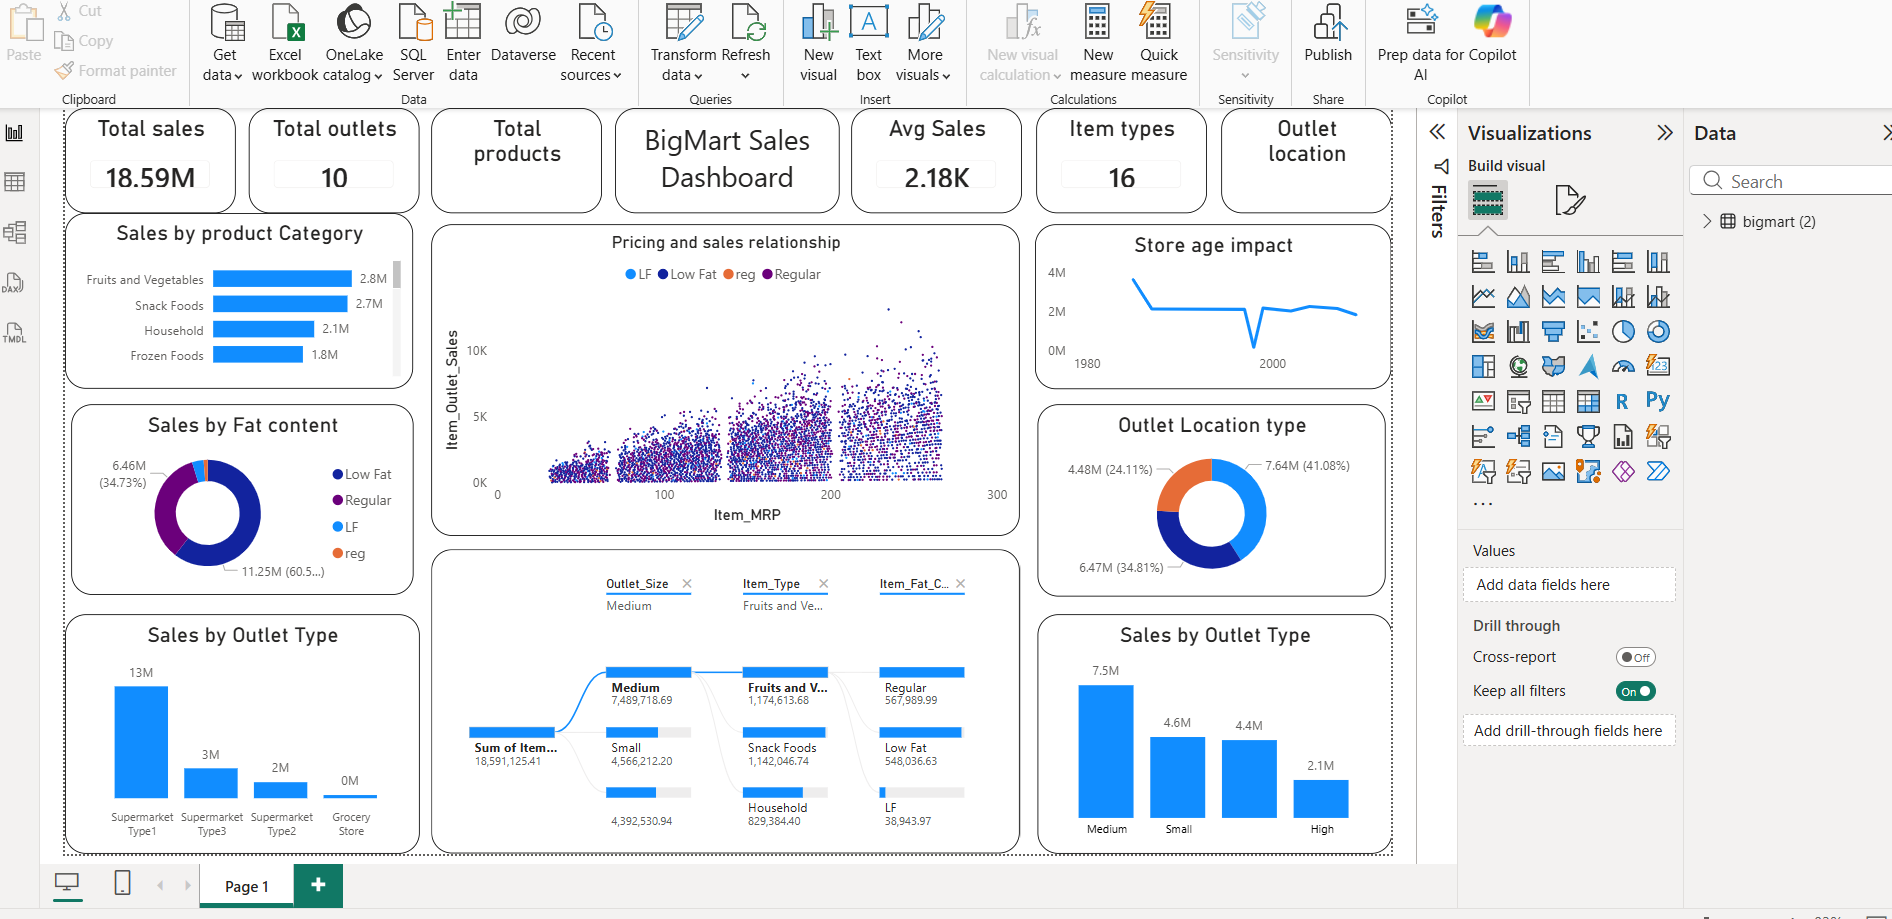

Layout of this report page (visuals, bound fields, positions):
{"tool":"powerbi","page":{"name":"Page 1","canvas":[1280,720],"ordinal":0},"visuals":[{"type":"textbox","box":[531,0,216.8,101.5],"z":0},{"type":"cardVisual","title":"Total sales","fields":{"Data":["Sum(bigmart (2).Item_Outlet_Sales)"]},"box":[0,0,164.7,101.5],"z":1000},{"type":"cardVisual","title":"Total outlets","fields":{"Data":["Count(bigmart (2).Outlet_Identifier)"]},"box":[177,0,164.7,101.5],"z":2000},{"type":"cardVisual","title":"Total products","fields":{"Data":["Count(bigmart (2).Item_Identifier)"]},"box":[354,0,164.7,101.5],"z":3000},{"type":"cardVisual","title":"Avg  Sales ","fields":{"Data":["Avg(bigmart (2).Item_Outlet_Sales)"]},"box":[758.8,0,164.7,101.5],"z":4000},{"type":"cardVisual","title":"Item types","fields":{"Data":["Count(bigmart (2).Item_Type)"]},"box":[937.2,0,164.7,101.5],"z":5000},{"type":"cardVisual","title":"Outlet location","fields":{"Data":["Count(bigmart (2).Outlet_Location_Type)"]},"box":[1115.6,0,164.7,101.5],"z":6000},{"type":"clusteredBarChart","title":"Sales by product Category","fields":{"Category":["bigmart (2).Item_Type"],"Y":["Sum(bigmart (2).Item_Outlet_Sales)"]},"box":[0,101.8,336.3,169.6],"z":7000},{"type":"donutChart","title":"Sales by Fat content","fields":{"Category":["bigmart (2).Item_Fat_Content"],"Y":["Sum(bigmart (2).Item_Outlet_Sales)"]},"box":[5.9,286.1,330.4,184.4],"z":8000},{"type":"clusteredColumnChart","title":"Sales by Outlet Type","fields":{"Y":["Sum(bigmart (2).Item_Outlet_Sales)"],"Category":["bigmart (2).Outlet_Type"]},"box":[0,488.2,342.2,231.6],"z":9000},{"type":"lineChart","title":"Store age impact","fields":{"Y":["Sum(bigmart (2).Item_Outlet_Sales)"],"Category":["bigmart (2).Outlet_Establishment_Year"]},"box":[936.6,112.1,343.7,159.3],"z":10000},{"type":"donutChart","title":"Outlet Location type","fields":{"Y":["Sum(bigmart (2).Item_Outlet_Sales)"],"Category":["bigmart (2).Outlet_Location_Type"]},"box":[938.1,286.1,336.3,185.8],"z":11000},{"type":"clusteredColumnChart","title":"Sales by Outlet Type","fields":{"Y":["Sum(bigmart (2).Item_Outlet_Sales)"],"Category":["bigmart (2).Outlet_Size"]},"box":[938.1,488.2,342.2,231.6],"z":12000},{"type":"scatterChart","title":"Pricing and sales relationship","fields":{"X":["bigmart (2).Item_MRP"],"Y":["bigmart (2).Item_Outlet_Sales"],"Series":["bigmart (2).Item_Fat_Content"]},"box":[354,112.1,567.9,300.9],"z":13000},{"type":"decompositionTreeVisual","fields":{"Analyze":["Sum(bigmart (2).Item_Outlet_Sales)"],"ExplainBy":["bigmart (2).Outlet_Size","bigmart (2).Item_Type","bigmart (2).Item_Fat_Content"]},"box":[354,426.3,567.9,293.5],"z":14000}]}

Visuals, with their boxes on the page's 1280x720 design canvas (x1, y1, x2, y2). These are canvas units, not pixel positions in the 1892x919 screenshot, which may show the page scaled, cropped or inside an application window:
textbox: box(531, 0, 748, 102)
"Total sales" cardVisual: box(0, 0, 165, 102)
"Total outlets" cardVisual: box(177, 0, 342, 102)
"Total products" cardVisual: box(354, 0, 519, 102)
"Avg  Sales " cardVisual: box(759, 0, 924, 102)
"Item types" cardVisual: box(937, 0, 1102, 102)
"Outlet location" cardVisual: box(1116, 0, 1280, 102)
"Sales by product Category" clusteredBarChart: box(0, 102, 336, 271)
"Sales by Fat content" donutChart: box(6, 286, 336, 470)
"Sales by Outlet Type" clusteredColumnChart: box(0, 488, 342, 720)
"Store age impact" lineChart: box(937, 112, 1280, 271)
"Outlet Location type" donutChart: box(938, 286, 1274, 472)
"Sales by Outlet Type" clusteredColumnChart: box(938, 488, 1280, 720)
"Pricing and sales relationship" scatterChart: box(354, 112, 922, 413)
decompositionTreeVisual - Sum(bigmart (2).Item_Outlet_Sales) x bigmart (2).Outlet_Size: box(354, 426, 922, 720)
